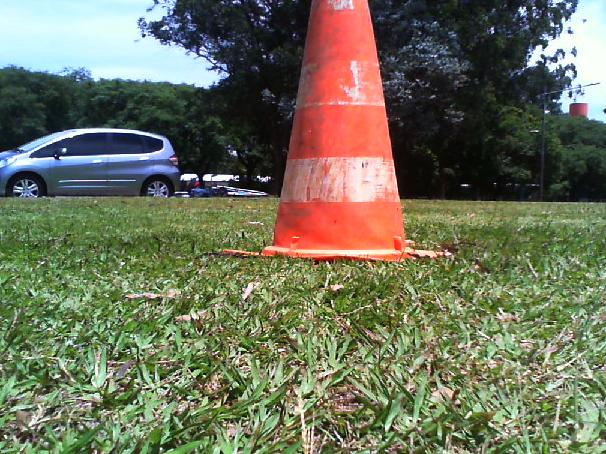0 cone: (225, 0, 451, 259)
